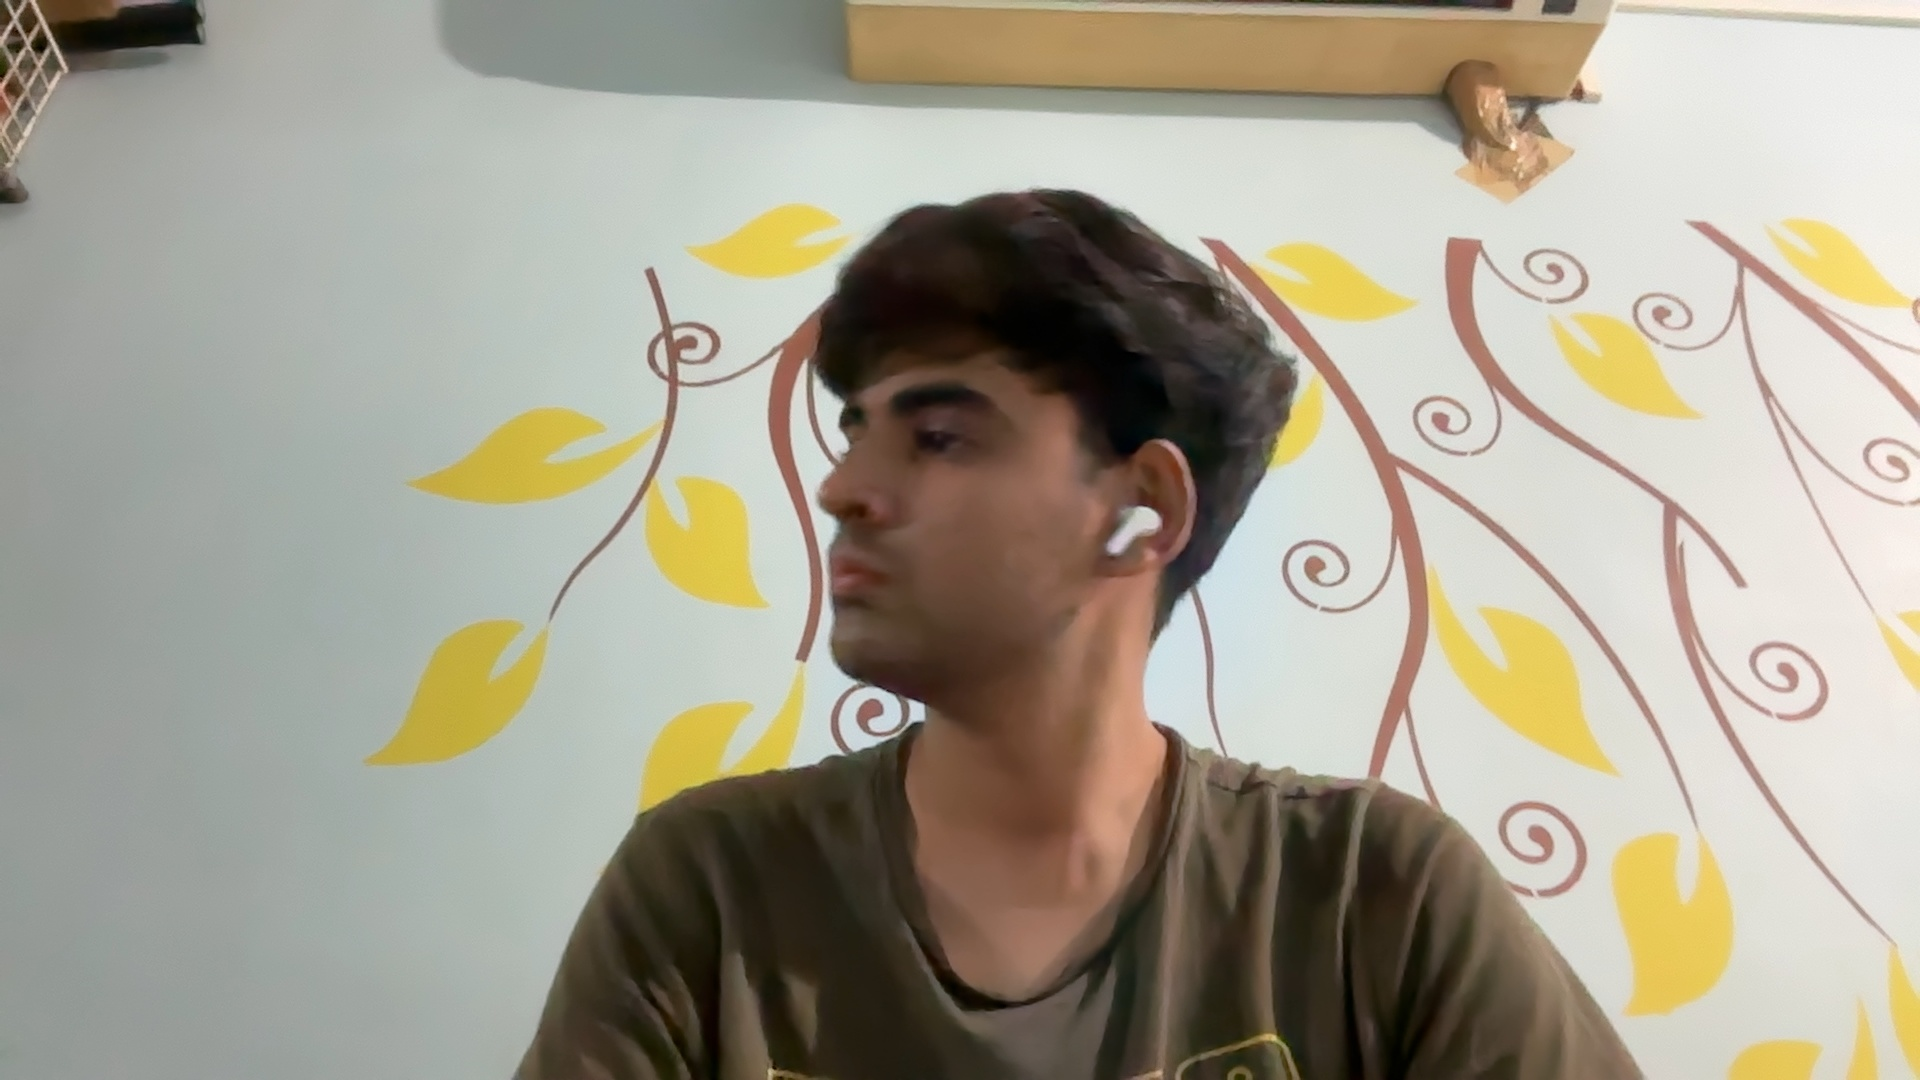No Mask: (798, 481, 1081, 697)
